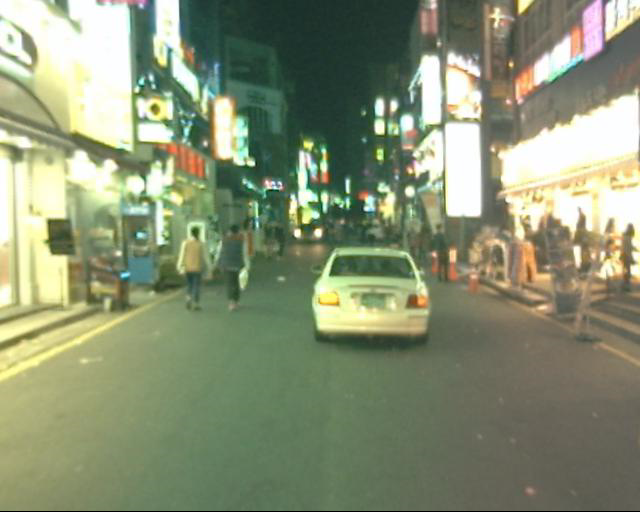person: (215, 222, 249, 309), (180, 227, 208, 311), (430, 232, 453, 282)
